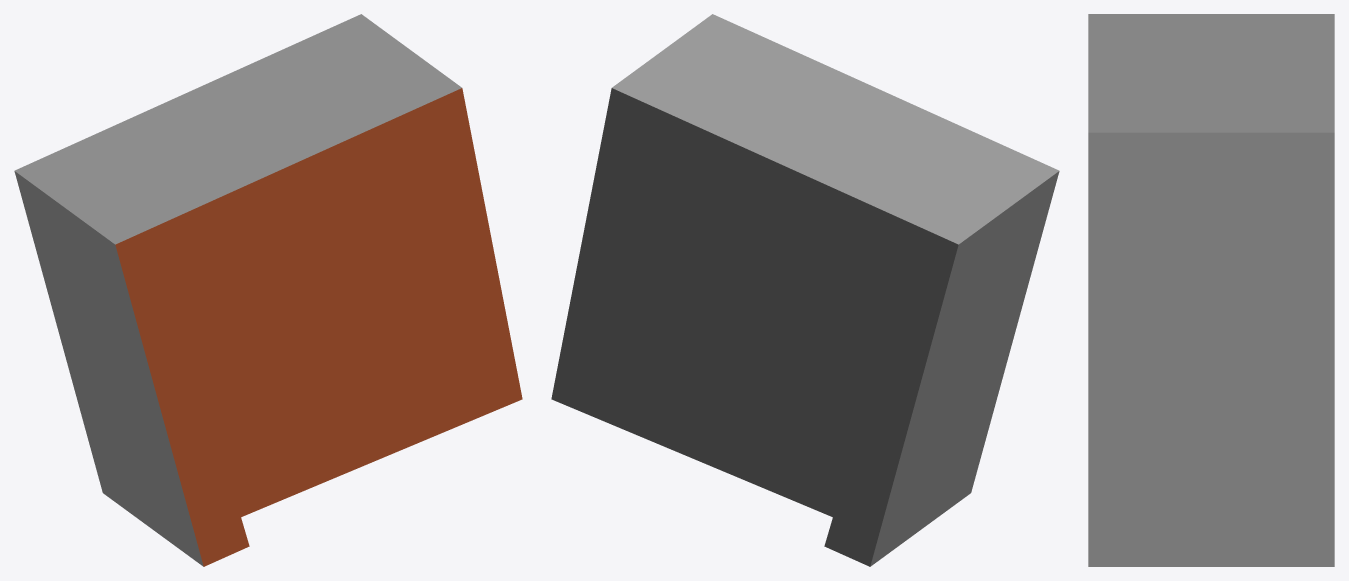
The model's file is construction_0870_assumed_A_Casa_h6m.obj.
3 views of the same model, side by side, from view 1: azimuth 30°, elevation 25°; view 2: azimuth 150°, elevation 25°; view 3: azimuth 270°, elevation 25° (orthographic). The views are drawn at different scales.
Visible parts, largest first — view 1: construction_0870_assumed_A_Casa; view 2: construction_0870_assumed_A_Casa; view 3: construction_0870_assumed_A_Casa.
Part boxes in pixels (<box>): construction_0870_assumed_A_Casa: <box>14,14,522,566</box>; construction_0870_assumed_A_Casa: <box>551,14,1059,566</box>; construction_0870_assumed_A_Casa: <box>1088,14,1334,566</box>.
Bounding box in the file's own units: 13.98 × 13.64 × 6.
